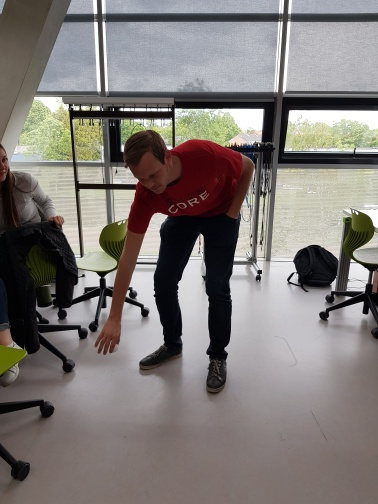egg: (108, 342, 123, 355)
